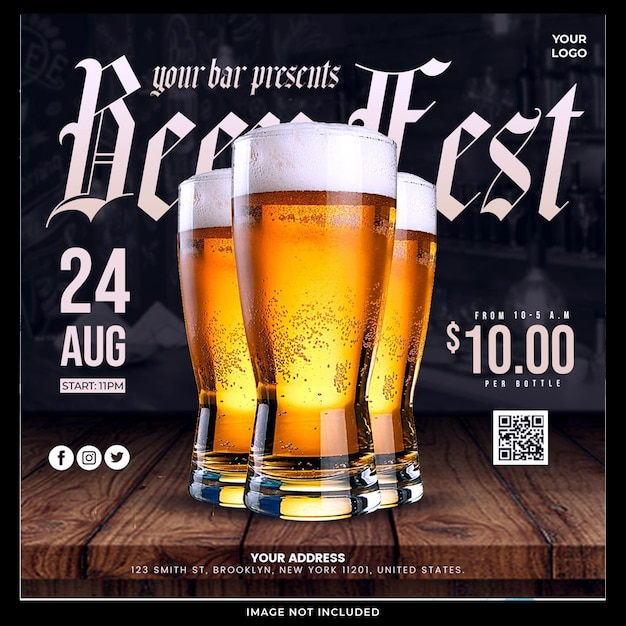alcohol: (229, 124, 402, 526), (176, 170, 306, 511), (369, 171, 434, 513)
